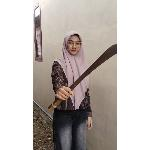Golok: (51, 40, 117, 110)
